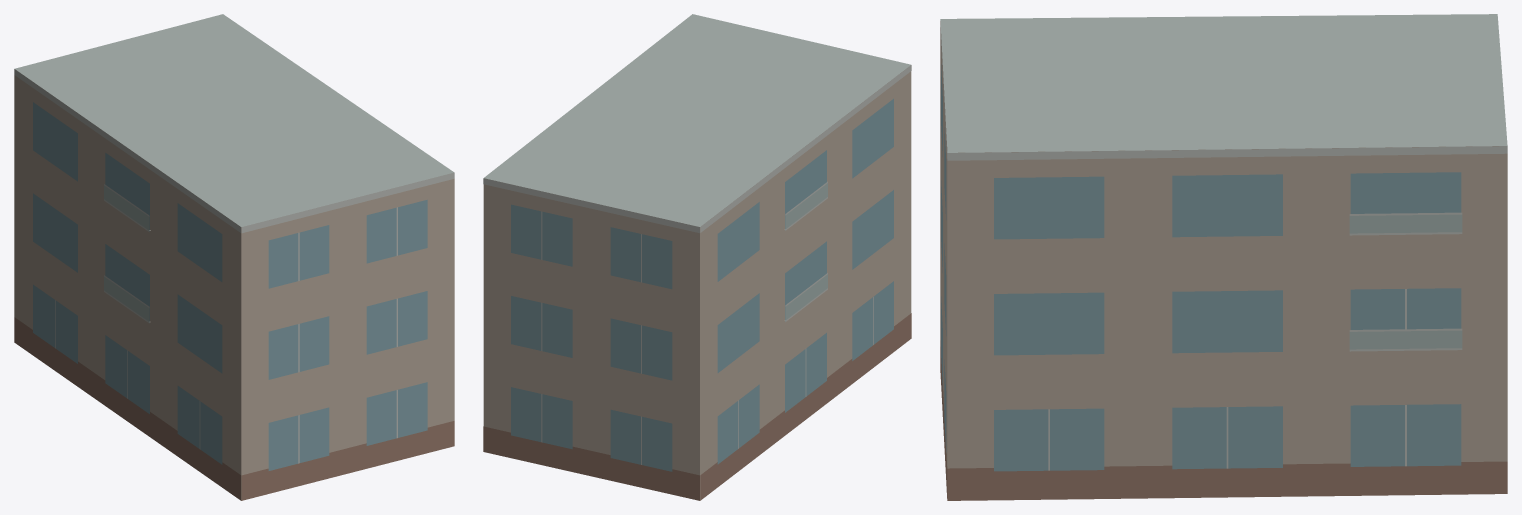
The model's file is survey-upis-33002749.glb.
The picture shows the model from 3 angles, left to right: view 1: azimuth 30°, elevation 25°; view 2: azimuth 150°, elevation 25°; view 3: azimuth 270°, elevation 25°; orthographic projection. The views are drawn at different scales.
Parts seen in each view (by area): view 1: survey-upis-33002749.tmp; view 2: survey-upis-33002749.tmp; view 3: survey-upis-33002749.tmp.
Part boxes in pixels (x1=…): survey-upis-33002749.tmp: x1=14, y1=14, x2=454, y2=500; survey-upis-33002749.tmp: x1=483, y1=14, x2=911, y2=500; survey-upis-33002749.tmp: x1=940, y1=14, x2=1507, y2=500.
Bounding box in the file's own units: 9.26 × 10.8 × 15.97.
